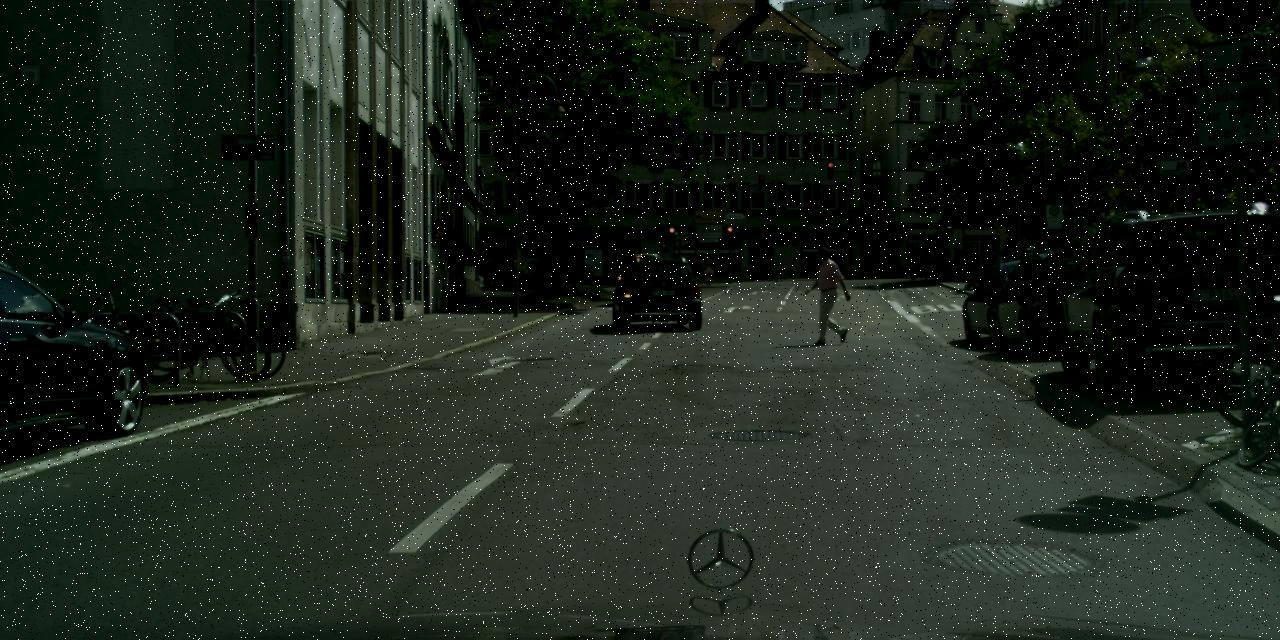ped: (808, 246, 848, 342), (967, 245, 984, 287), (983, 245, 998, 282), (949, 244, 962, 276), (912, 246, 924, 279), (1001, 243, 1013, 273), (1008, 245, 1019, 275), (937, 252, 946, 277)
